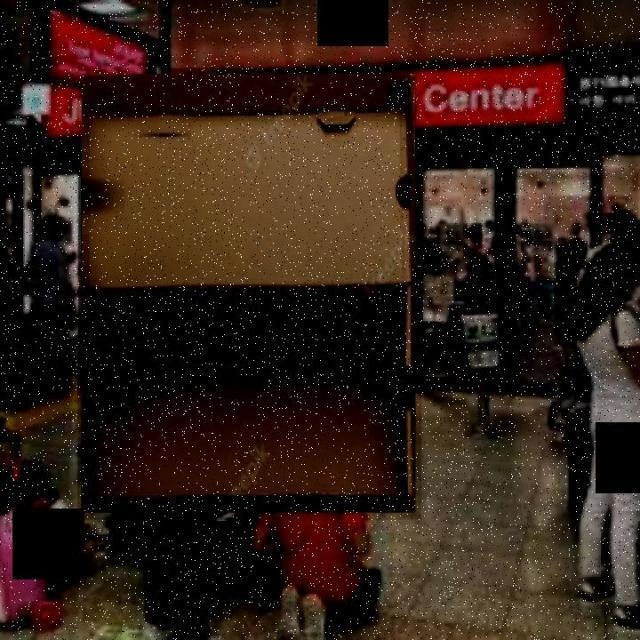box: (78, 68, 422, 520)
